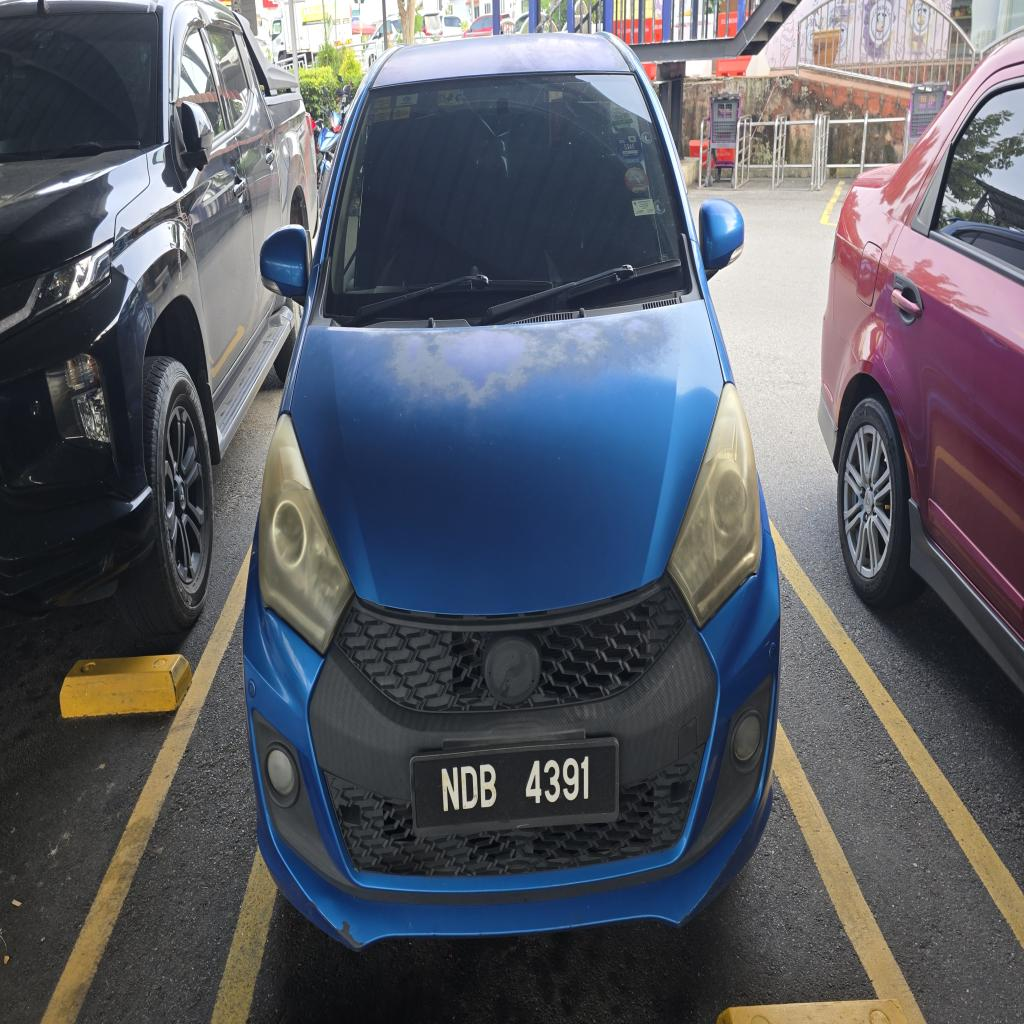car: (244, 34, 779, 948)
car plate: (410, 738, 618, 836)
